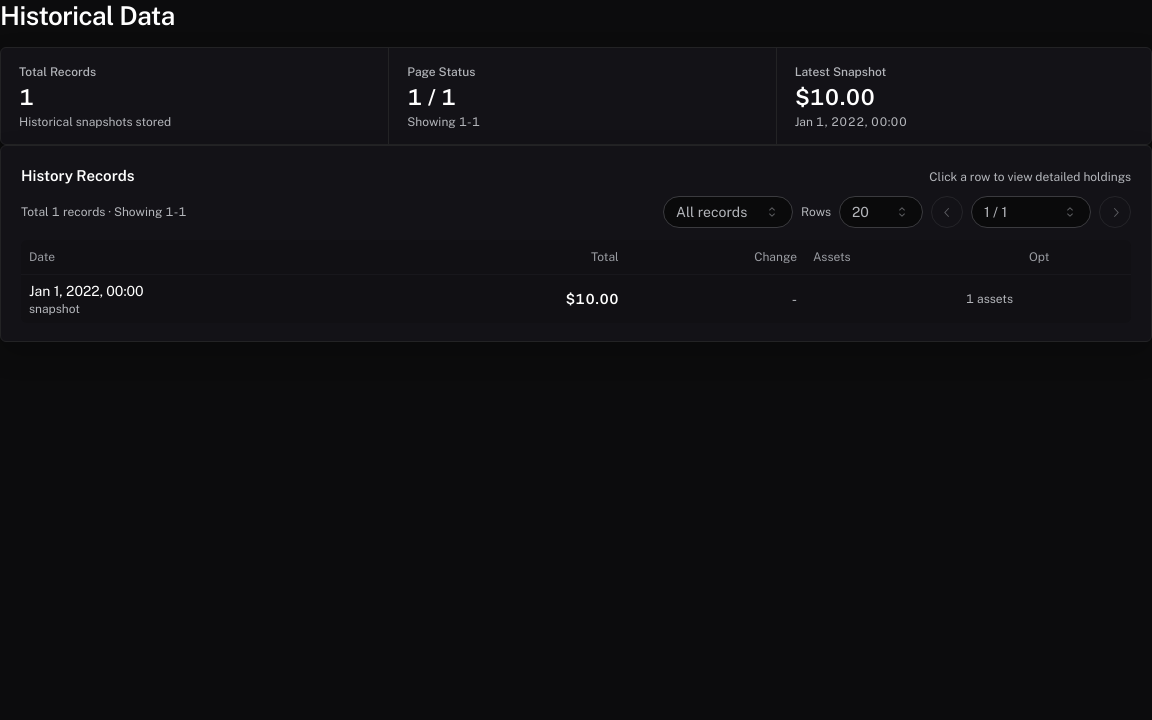
Test case: shows a loading status while a snapshot detail query is pending
The width and height of the screenshot is (1152, 720).
Click the text "snapshot". click: (54, 309)
box: [29,302,80,316]
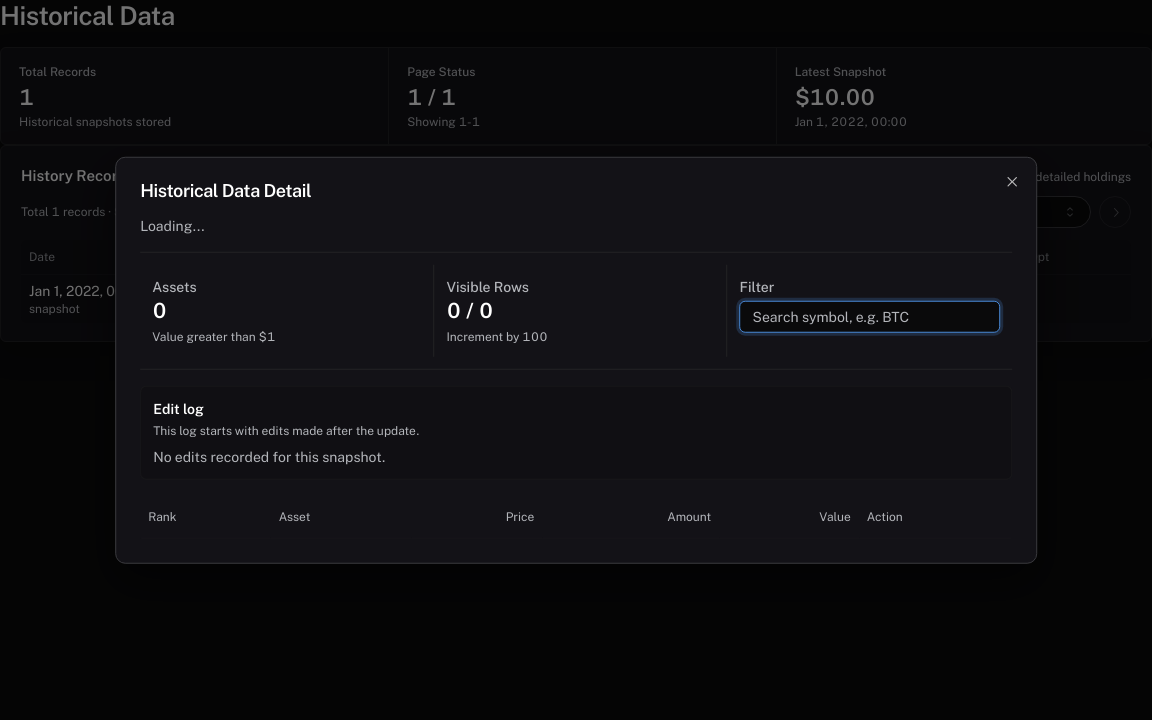
Expected: the message shows "Loading", [140,218,205,234]
